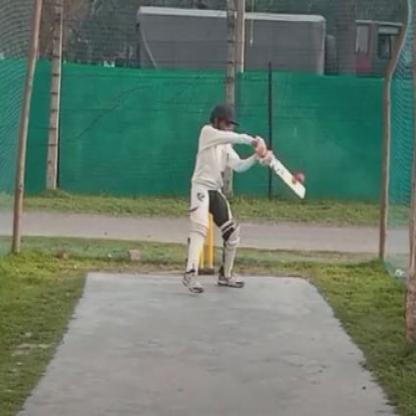ball: (292, 166, 307, 186)
